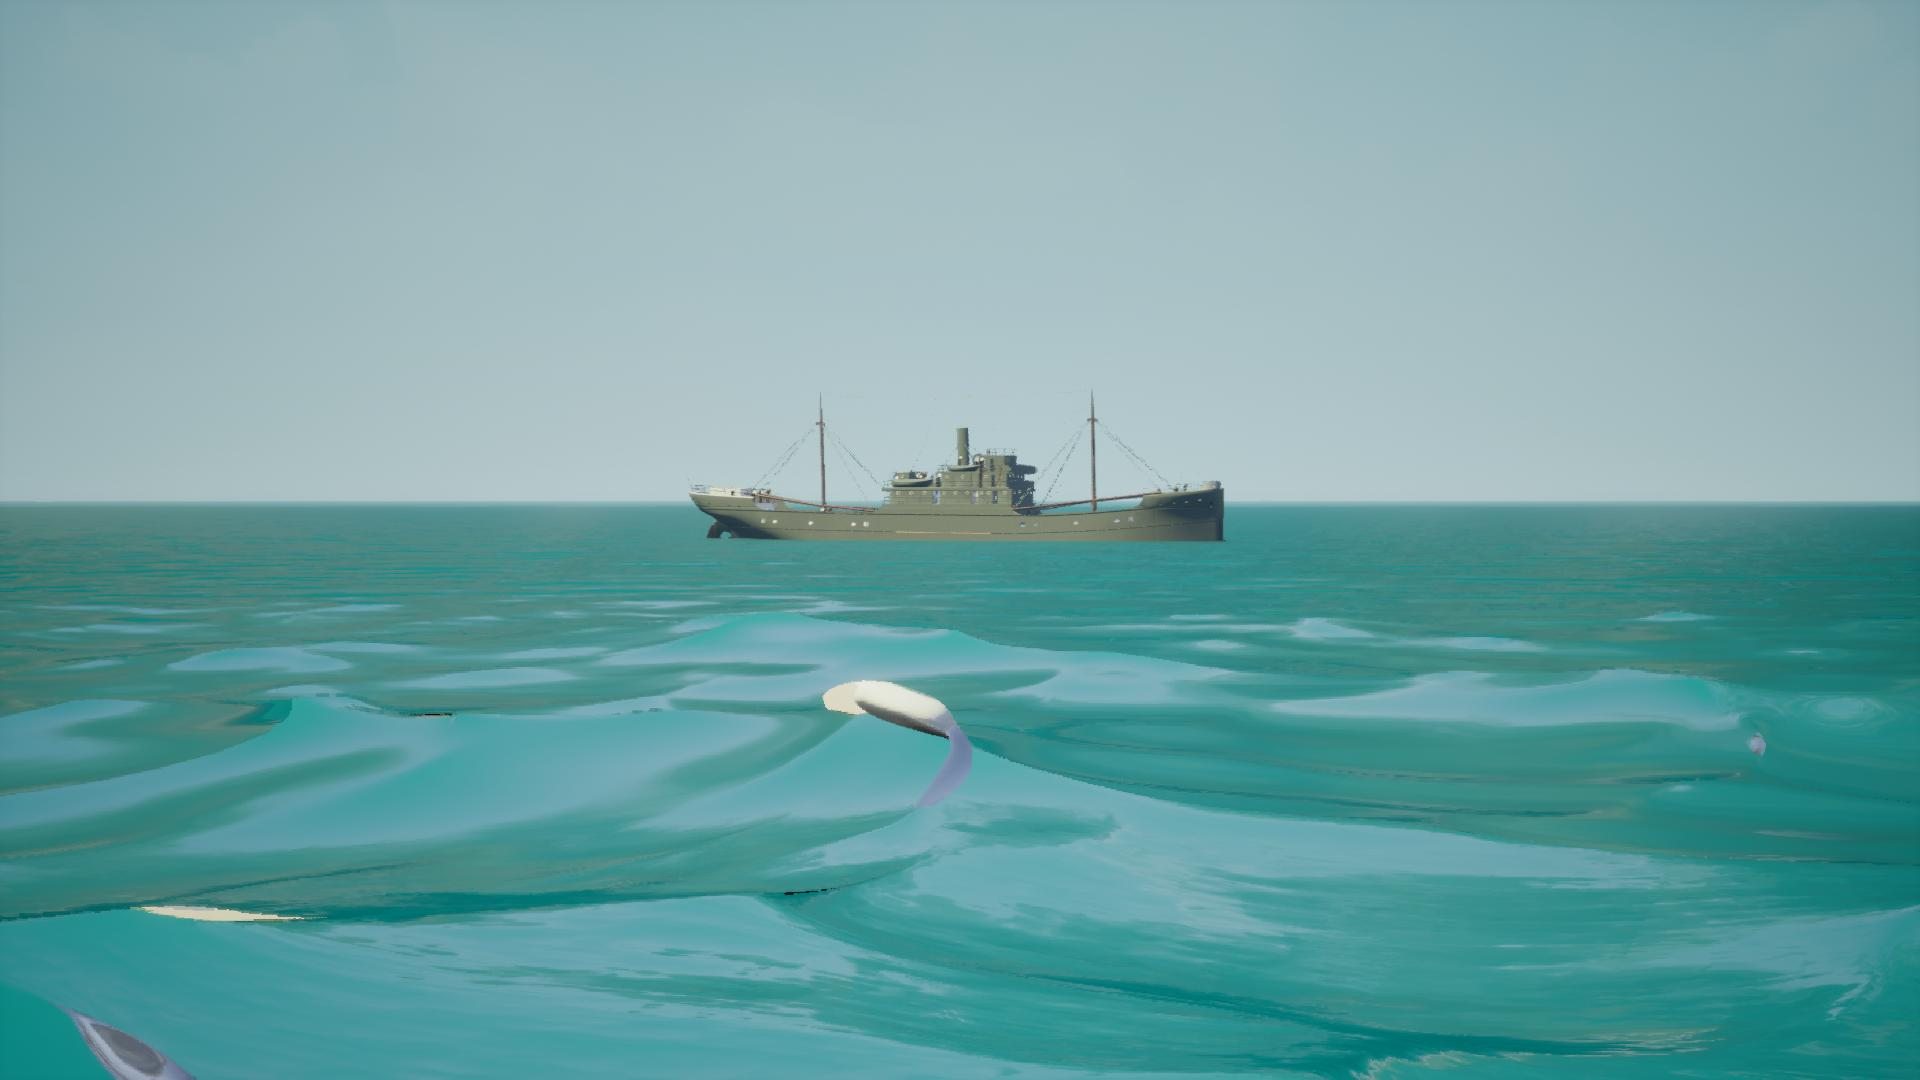Fishing Boat: (686, 392, 1228, 543)
